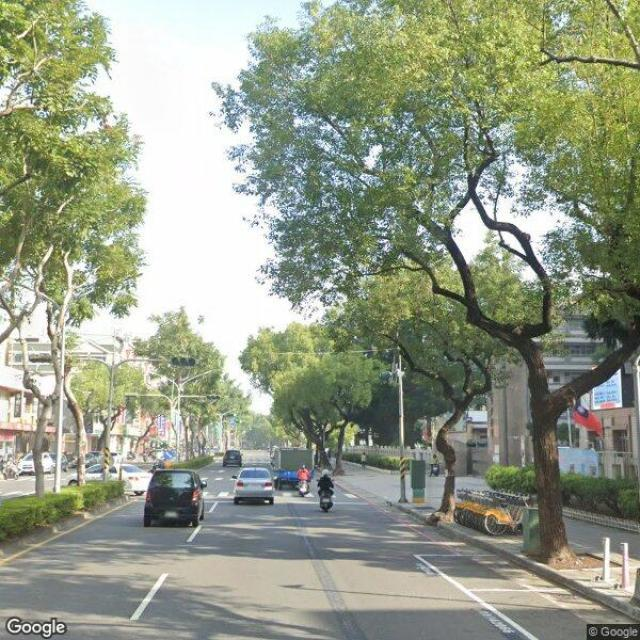Legalparking: (433, 451, 562, 569)
illegalparking: (224, 439, 370, 531)
